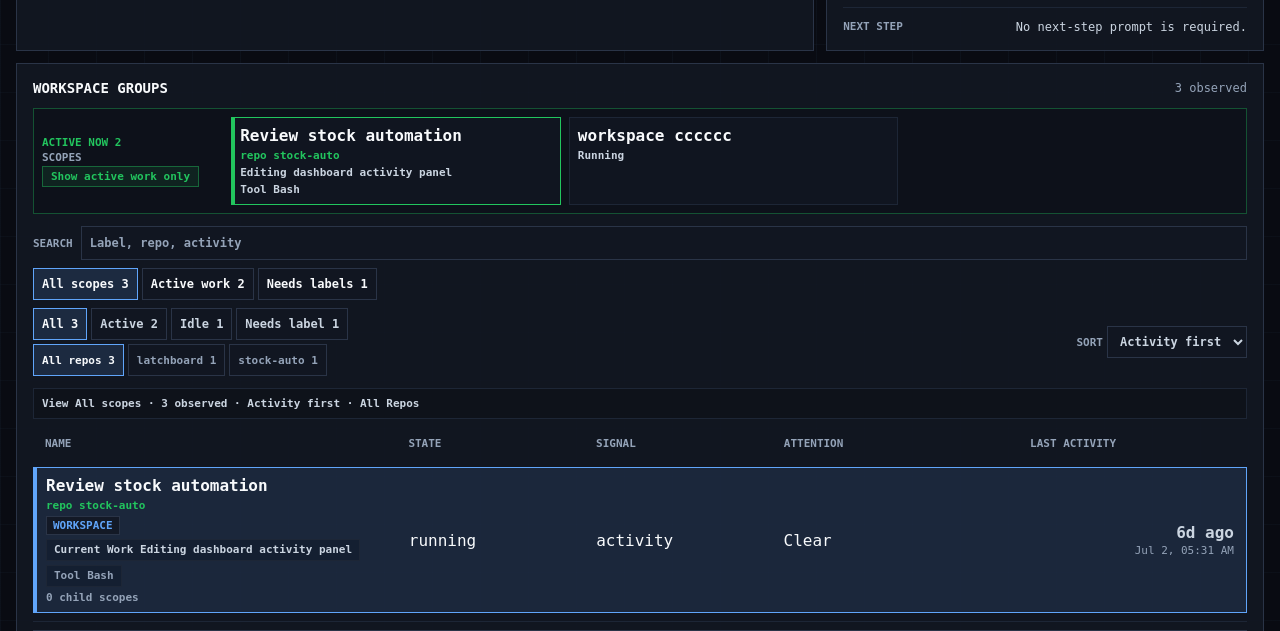
Test: AppView › filters workspace groups by safe repo alias quick buttons
This screenshot has width=1280, height=631.
(page scrolled)
Click the button "latchboard 1" at (177,360), box [128,344,225,376]
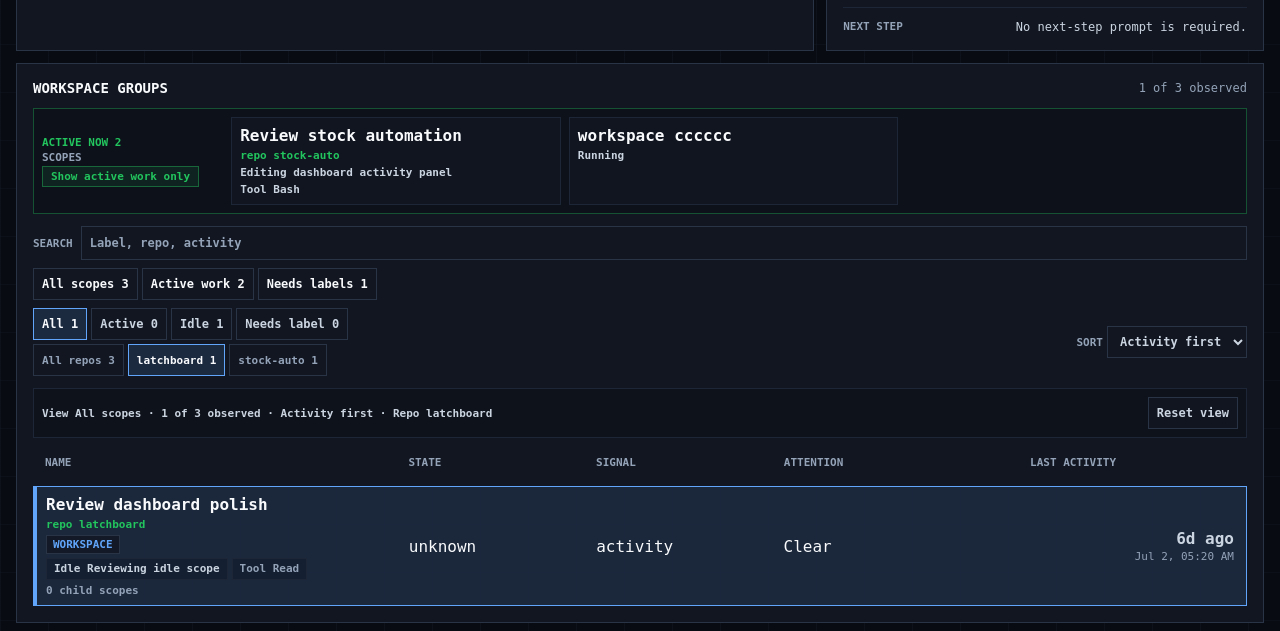
Check: the button "Idle 1" is shown, box [171,308,232,340]
Check: the text "1 of 3 observed" is shown, box [1139,81,1247,95]
Check: the button "Active 0" is shown, box [91,308,167,340]
Click the button "All repos 3" at (78,360), box [33,344,124,376]
(page scrolled)
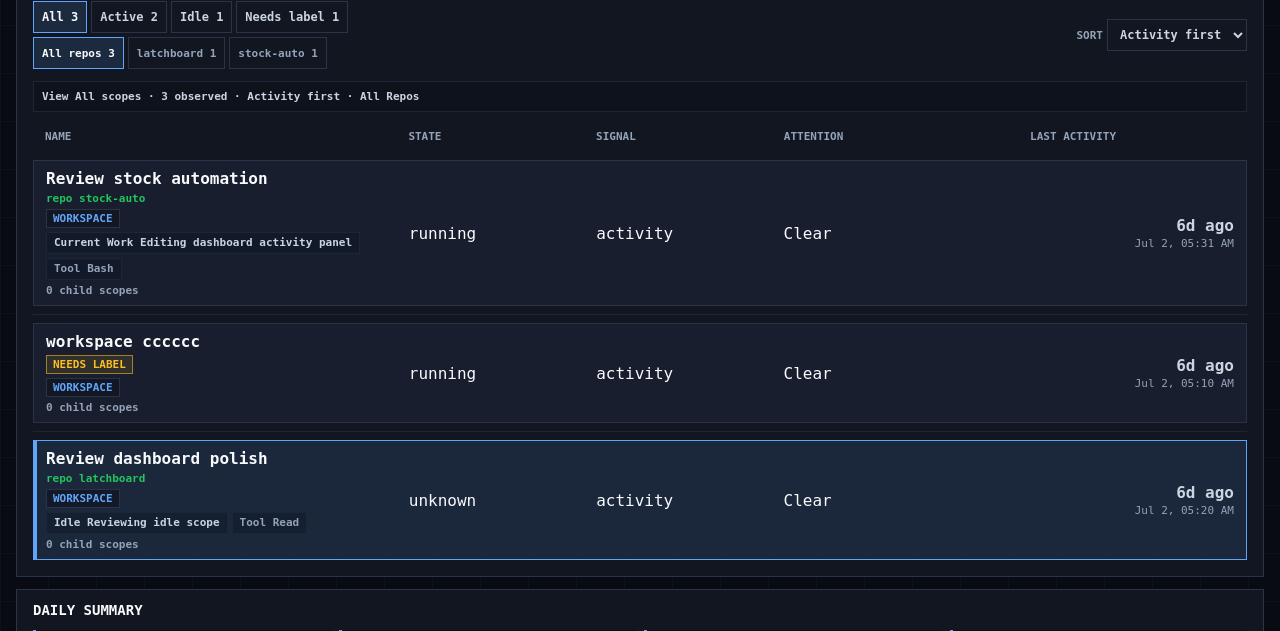
Check: the list named "Workspace groups" shows "Review dashboard polish", box [33,440,1247,560]
Check: the list named "Workspace groups" shows "Review stock automation", box [33,160,1247,306]
Check: the list named "Workspace groups" shows "workspace cccccc", box [33,323,1247,423]
